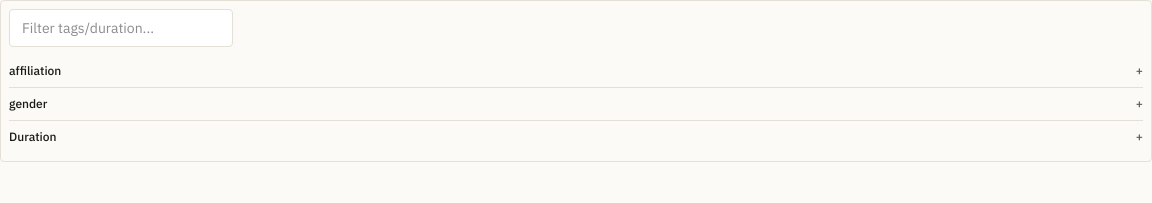
it: FacetCheckboxGroups › clicking a section header expands it, revealing its checkboxes
This screenshot has width=1152, height=203.
Click the button "affiliation +" at (35,70), box [9, 59, 1143, 83]
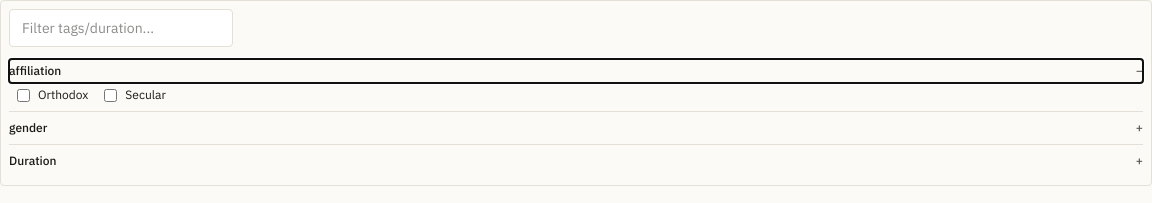
Expected: the checkbox labelled "Orthodox" is shown, [17, 88, 30, 102]
Expected: the checkbox labelled "Secular" is shown, [104, 88, 117, 102]
